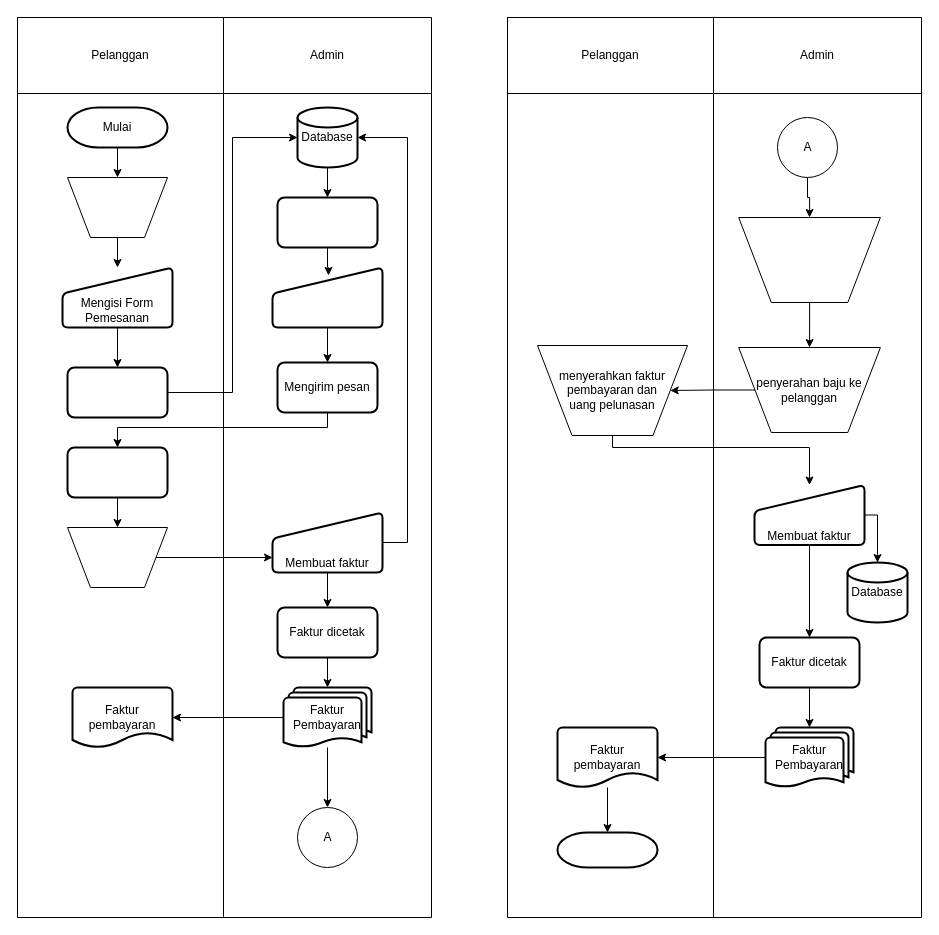
Image size: 939x935. Some labels were removed from this diagram. Each missing label, with the centre of its shape:
Data pemesanan dikirm: (x=117, y=392)
Konfirmasi pemesanan: (x=327, y=297)
Membayar uang muka: (x=117, y=557)
Menerima konfirmasi pemesanan: (x=117, y=472)
Menerima notifikasi pemesanan: (x=327, y=222)
mengakses sistem E-katalog: (x=117, y=207)
proses pembuatan baju di vendor: (x=809, y=259)
Selesai: (x=607, y=849)
